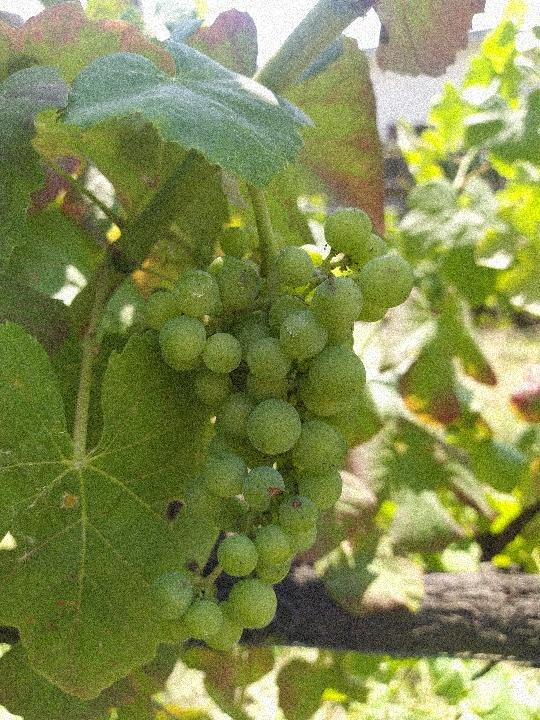grape: (139, 205, 416, 651)
